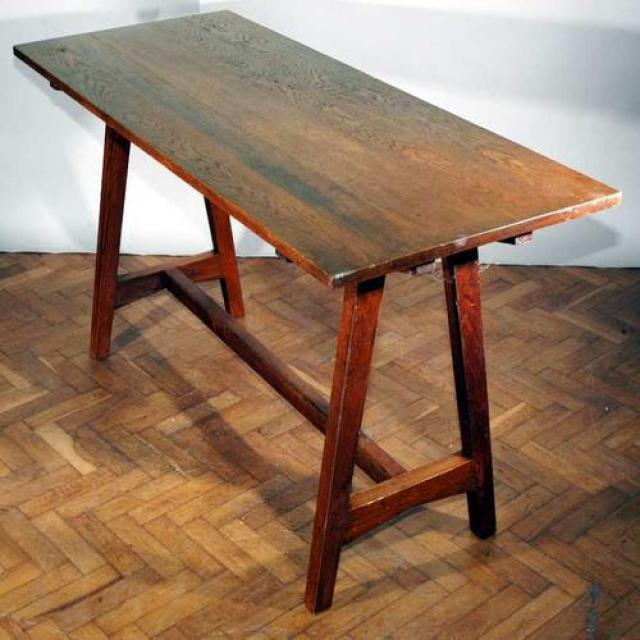table: (13, 10, 623, 616)
